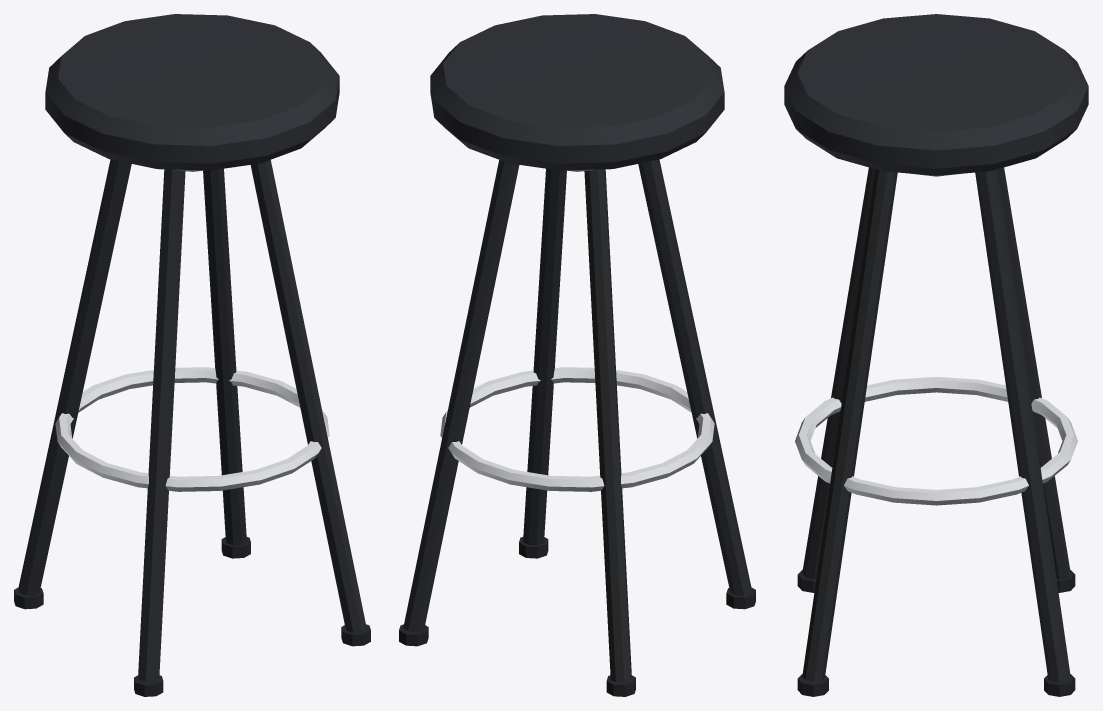
The model's file is SC_Fix_Stool_Bar.gltf.
3 views of the same model, side by side, from view 1: azimuth 30°, elevation 25°; view 2: azimuth 150°, elevation 25°; view 3: azimuth 270°, elevation 25° (orthographic). The views are drawn at different scales.
Parts seen in each view (by area): view 1: SC_Fix_Stool_Bar; view 2: SC_Fix_Stool_Bar; view 3: SC_Fix_Stool_Bar.
Part boxes in pixels (bbox=[...]): SC_Fix_Stool_Bar: bbox=[14, 14, 370, 696]; SC_Fix_Stool_Bar: bbox=[399, 14, 755, 696]; SC_Fix_Stool_Bar: bbox=[784, 14, 1088, 696].
Size of the model in its own units: 0.35 by 0.72 by 0.35.
1 material, 1 textured.
